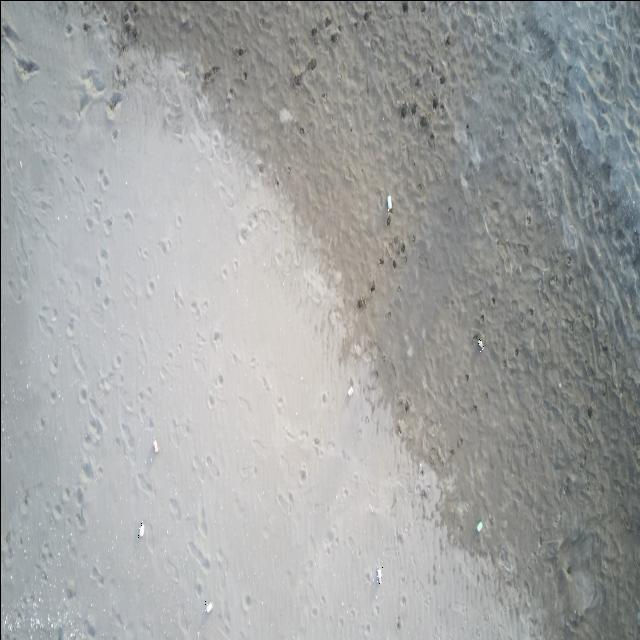Garbage: (473, 335, 484, 351), (375, 566, 382, 584), (204, 600, 212, 612), (475, 520, 483, 532), (387, 193, 392, 212), (152, 439, 158, 452), (476, 339, 483, 350), (138, 522, 143, 536), (347, 384, 353, 395)
